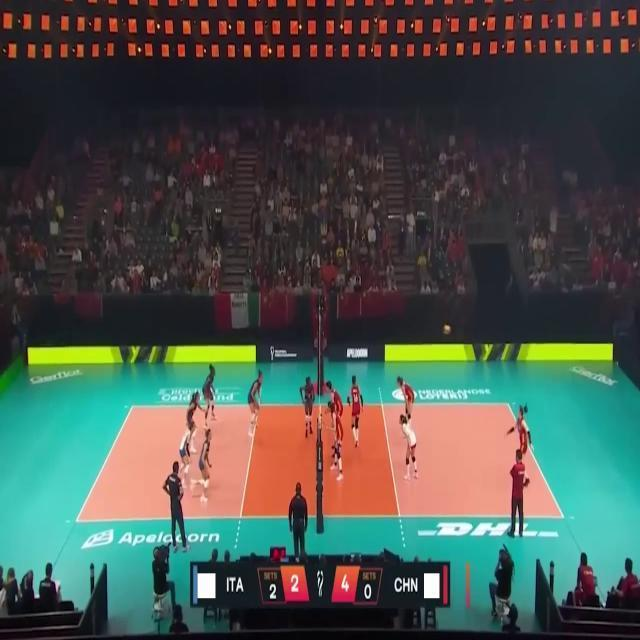volleyball: (441, 324, 452, 336)
